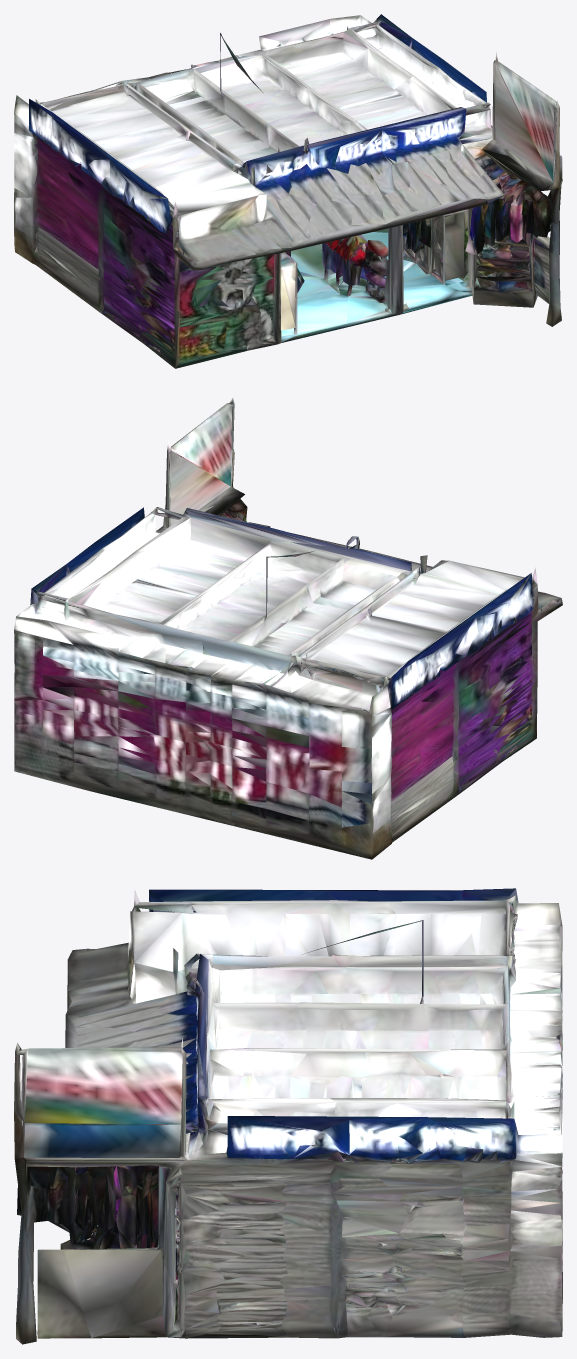
The model's file is shop.glb.
3 renders of one model, top to bottom at view 1: azimuth 30°, elevation 25°; view 2: azimuth 150°, elevation 25°; view 3: azimuth 270°, elevation 25°, orthographic. The views are drawn at different scales.
Parts seen in each view (by area): view 1: Environment; view 2: Environment; view 3: Environment.
Boxes of the visible parts, left/top/right/bottom form: Environment: left=14, top=14, right=562, bottom=368; Environment: left=14, top=397, right=562, bottom=859; Environment: left=14, top=888, right=562, bottom=1344.
Bounding box in the file's own units: 1.99 × 1.23 × 2.
1 material, 1 textured.
